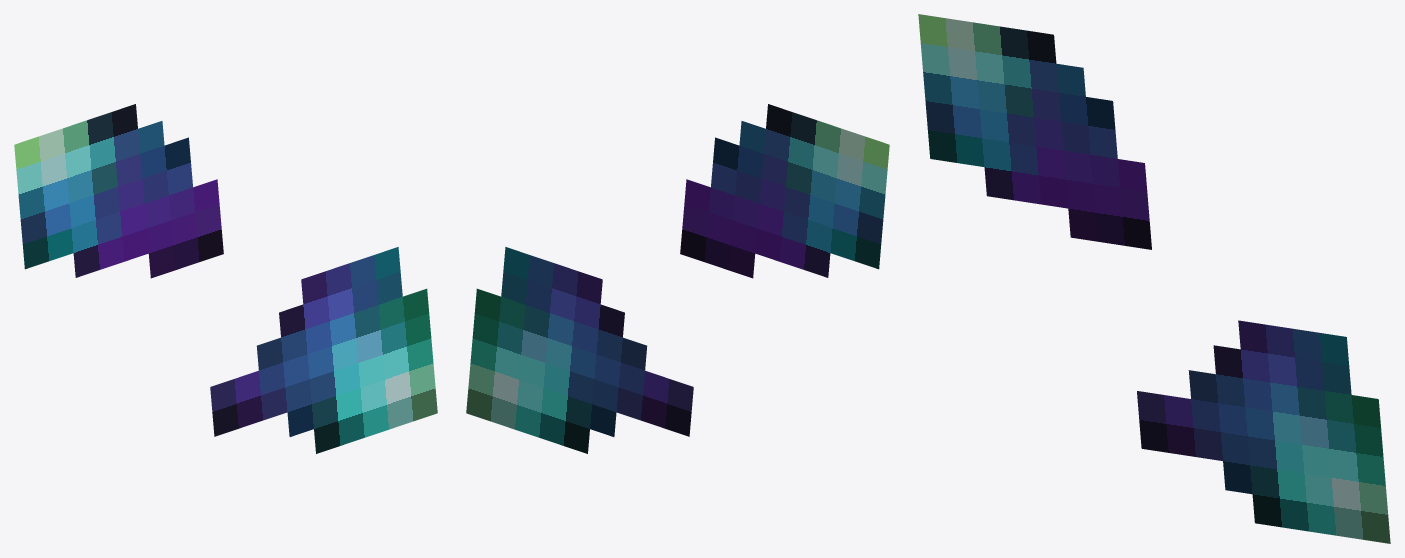
The model's file is stars_edge.gltf.
3 views of the same model, side by side, from view 1: azimuth 30°, elevation 25°; view 2: azimuth 150°, elevation 25°; view 3: azimuth 330°, elevation 25° (orthographic). The views are drawn at different scales.
Visible parts, largest first — view 1: cube; view 2: cube; view 3: cube.
Part boxes in pixels (bbox=[...]): cube: bbox=[14, 104, 437, 453]; cube: bbox=[466, 104, 889, 453]; cube: bbox=[918, 14, 1390, 543].
Bounding box in the file's own units: 0.5552 × 0.5552 × 6.25e-05.
1 material, 1 textured.
